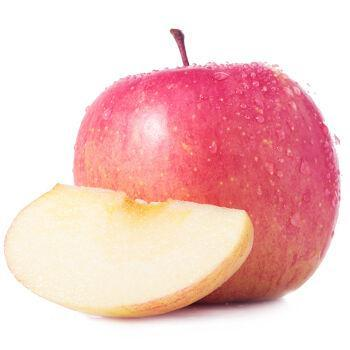apple: (61, 24, 345, 308)
